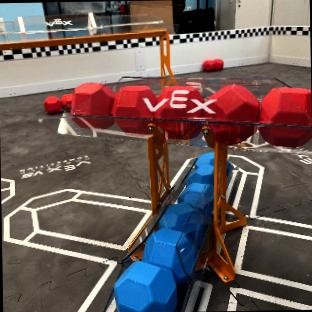V5_BLUE: (114, 260, 176, 312), (143, 224, 198, 282), (159, 198, 208, 244), (178, 181, 213, 211), (188, 151, 213, 184)
V5_RED: (204, 84, 258, 121), (260, 87, 311, 124), (112, 84, 155, 117), (72, 82, 114, 115), (44, 95, 60, 113), (203, 58, 222, 69), (60, 93, 72, 107)
